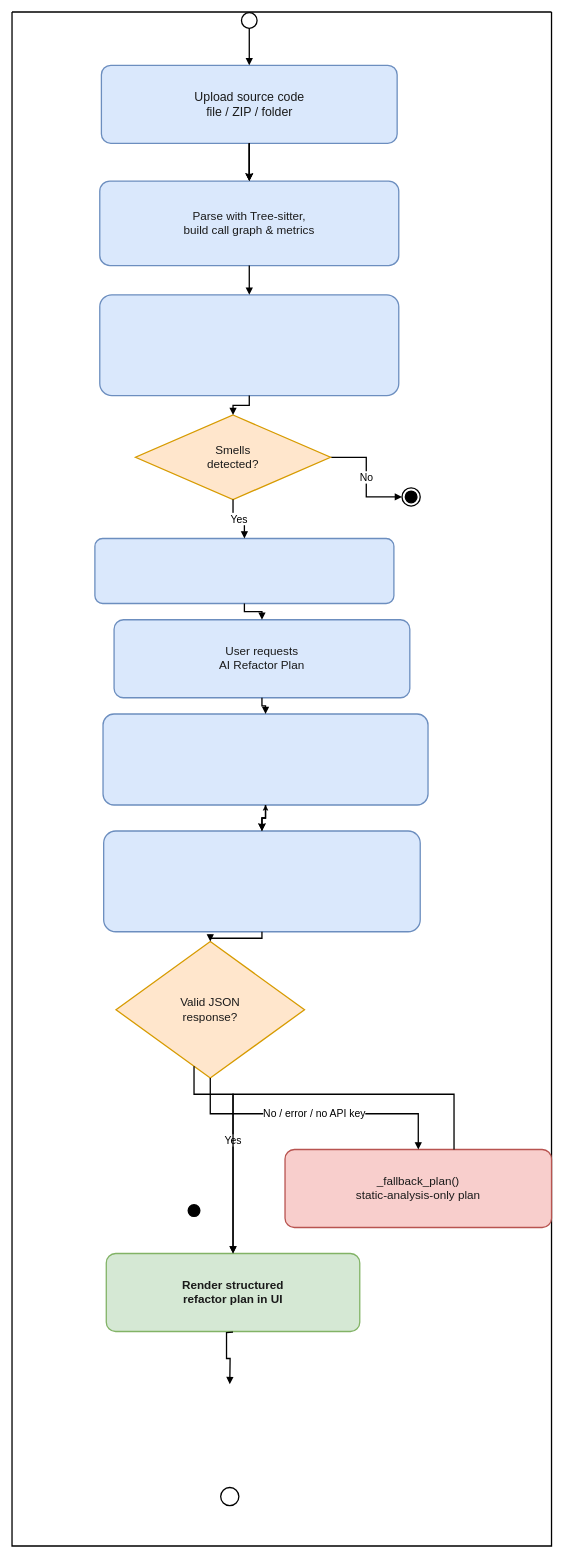
Image size: 563x1557. Some labels were removed from this diagram. Here are the shapes that lost their labels. From the top down, the centre of each, then its label:
(249,345): Run code smell analysis smell_detector.py
(244,571): Build dependency graph + greedy set-cover fix plan smell_graph.py
(265,759): _build_prompt() smell summary + plan + project context
(262,881): Call Groq API llama-3.3-70b-versatile
